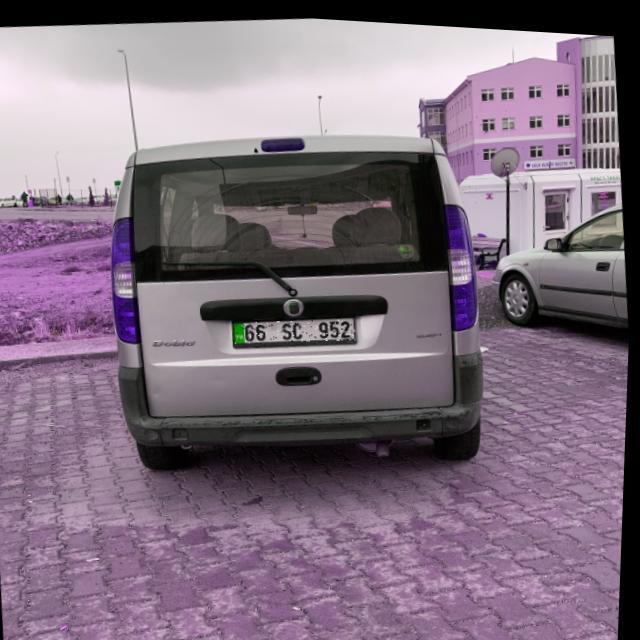license_plate: (234, 308, 358, 346)
